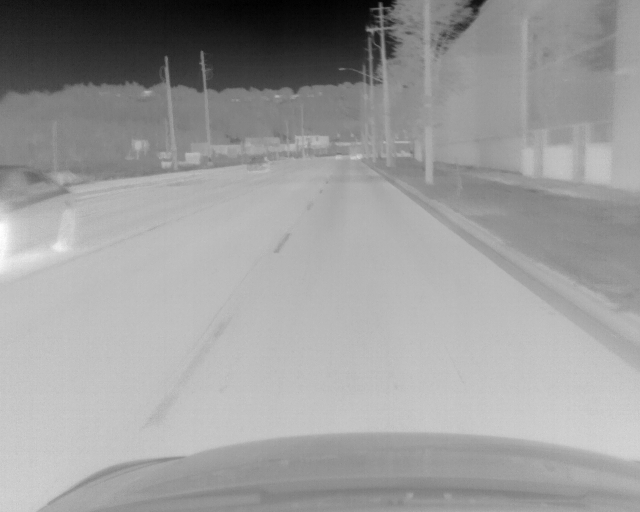car: (1, 165, 75, 274), (244, 155, 269, 172)
